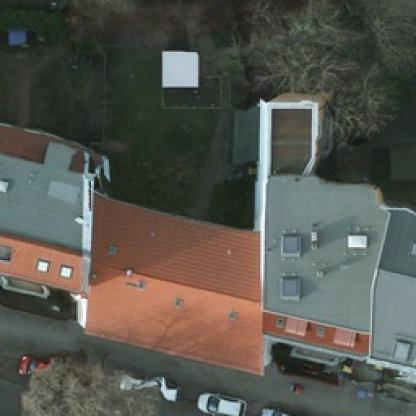car: (18, 354, 70, 388)
